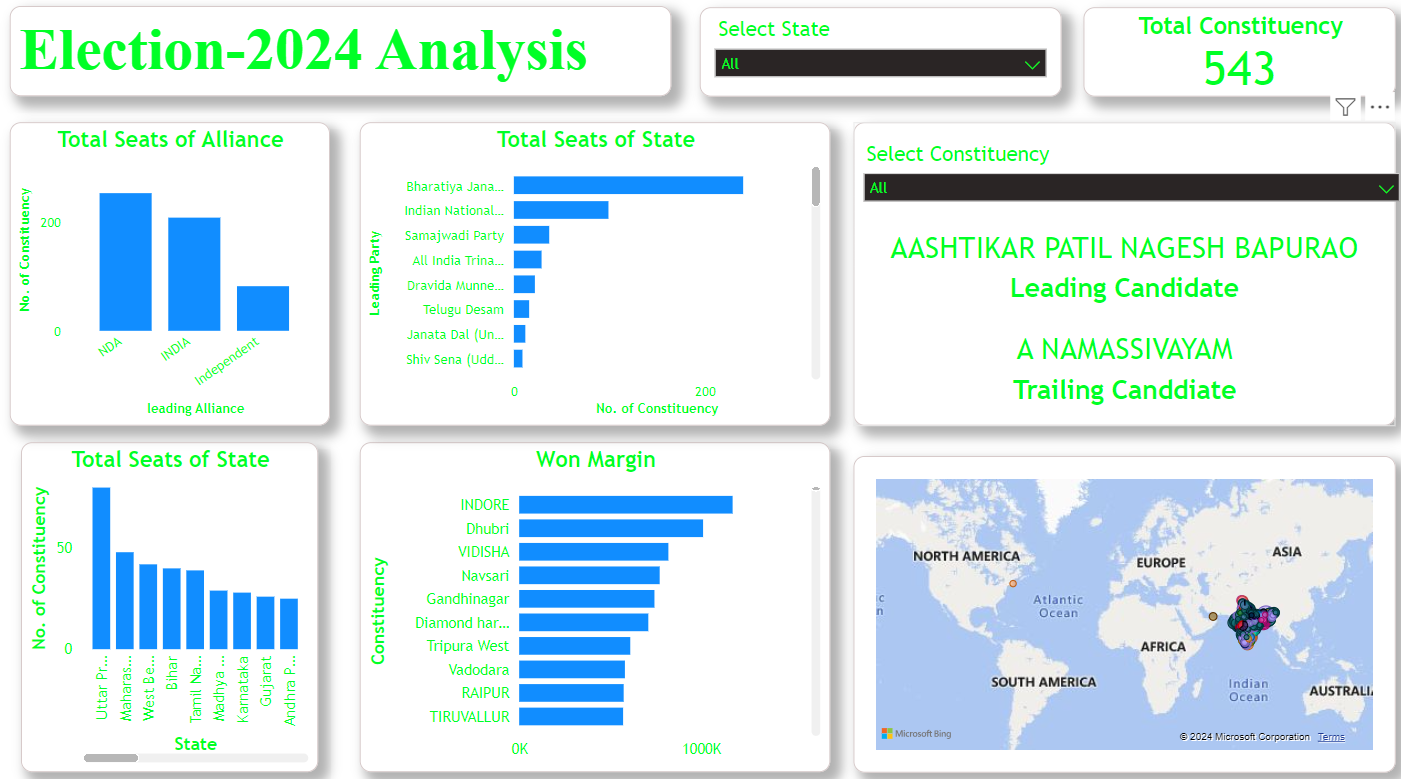

The dashboard page shown, as its layout file describes it:
{"tool":"powerbi","page":{"name":"Page 1","canvas":[1280,720],"ordinal":0},"visuals":[{"type":"textbox","box":[10,224.5,524,169],"z":0},{"type":"textbox","box":[9.5,21.6,524.5,98.7],"z":1000},{"type":"card","title":"Total Constituency","fields":{"Values":["Merge1.Constituency"]},"box":[984.2,14.9,282.6,81.1],"z":2000},{"type":"textbox","box":[12.1,13.6,598.1,81.8],"z":3000},{"type":"clusteredColumnChart","title":"Total Seats of Alliance","fields":{"Category":["Merge1.leading Alliance"],"Y":["Merge1.Constituency"]},"box":[12.2,119,289.3,274.4],"z":4000},{"type":"clusteredColumnChart","title":"Total Seats of State","fields":{"Y":["Merge1.Constituency"],"Category":["Merge1.State"]},"box":[23,408.3,269,298.8],"z":5000},{"type":"clusteredBarChart","title":"Won Margin","fields":{"Category":["Merge1.Constituency"],"Y":["Merge1.Margin"]},"box":[328.5,408.3,425.9,298.8],"z":6000},{"type":"clusteredBarChart","title":"Total Seats of State","fields":{"Category":["Merge1.Leading Party"],"Y":["Merge1.Constituency"]},"box":[328.5,119,425.9,274.4],"z":7000},{"type":"slicer","fields":{"Values":["Merge1.State"]},"box":[636.8,14.9,327.2,81.1],"z":8000},{"type":"card","title":"Total Constituency","fields":{"Values":["Merge1.Leading Candidate"]},"box":[776,119,490.7,274.4],"z":9000},{"type":"slicer","fields":{"Values":["Merge1.Constituency"]},"box":[774.4,131.1,505.6,81.7],"z":10000},{"type":"card","title":"Total Constituency","fields":{"Values":["Merge1.Trailing Canddiate"]},"box":[776,282.6,490.7,110.9],"z":11000},{"type":"map","title":"Won Margin","fields":{"Size":["Merge1.Margin"],"Category":["Merge1.Constituency"],"Series":["Merge1.Leading Party"]},"box":[776,420.4,490.7,286.6],"z":12000}]}

Visuals, with their boxes in screenshot pixels (x1, y1, x2, y2), scaled from the page's 1280x720 canvas onto the 1401x779 screenshot:
textbox: region(11, 243, 584, 426)
textbox: region(10, 23, 584, 130)
"Total Constituency" card: region(1077, 16, 1387, 104)
textbox: region(13, 15, 668, 103)
"Total Seats of Alliance" clusteredColumnChart: region(13, 129, 330, 426)
"Total Seats of State" clusteredColumnChart: region(25, 442, 320, 765)
"Won Margin" clusteredBarChart: region(360, 442, 826, 765)
"Total Seats of State" clusteredBarChart: region(360, 129, 826, 426)
slicer - Merge1.State: region(697, 16, 1055, 104)
"Total Constituency" card: region(849, 129, 1386, 426)
slicer - Merge1.Constituency: region(848, 142, 1400, 230)
"Total Constituency" card: region(849, 306, 1386, 426)
"Won Margin" map: region(849, 455, 1386, 765)
